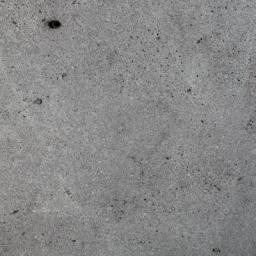FOD: (47, 18, 63, 32)
